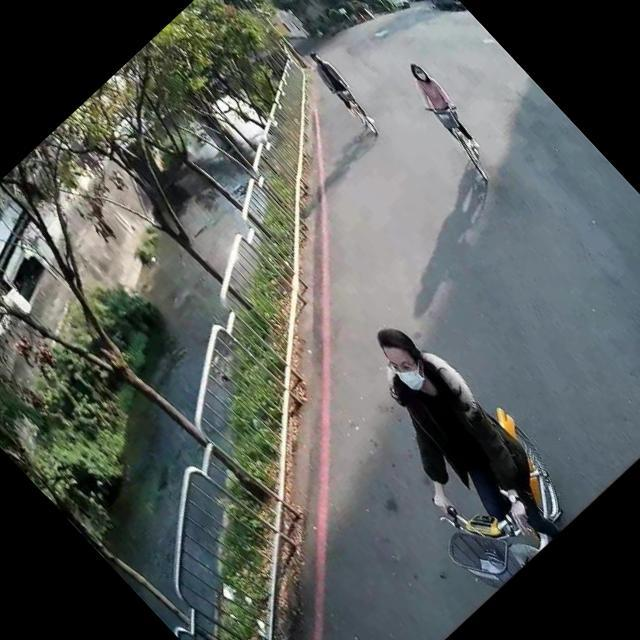person: (309, 302, 588, 588), (389, 54, 494, 162), (297, 44, 382, 133)
